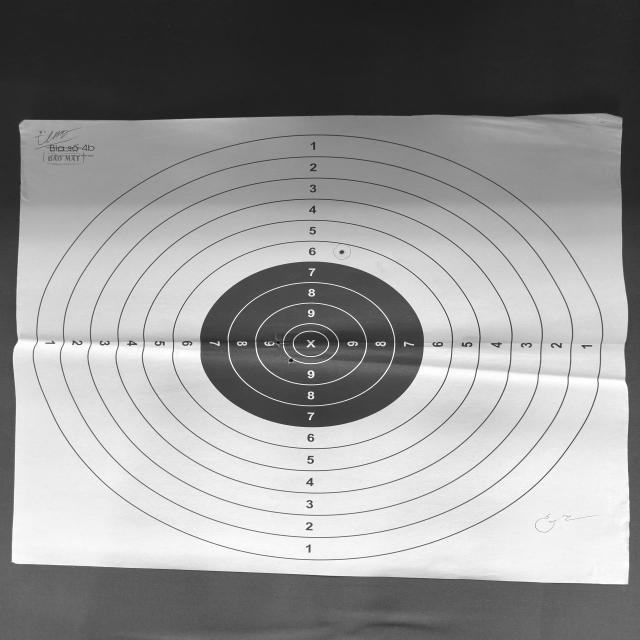bullet: (274, 338, 283, 346), (287, 356, 294, 364), (340, 248, 344, 256)
target: (12, 116, 624, 580)
